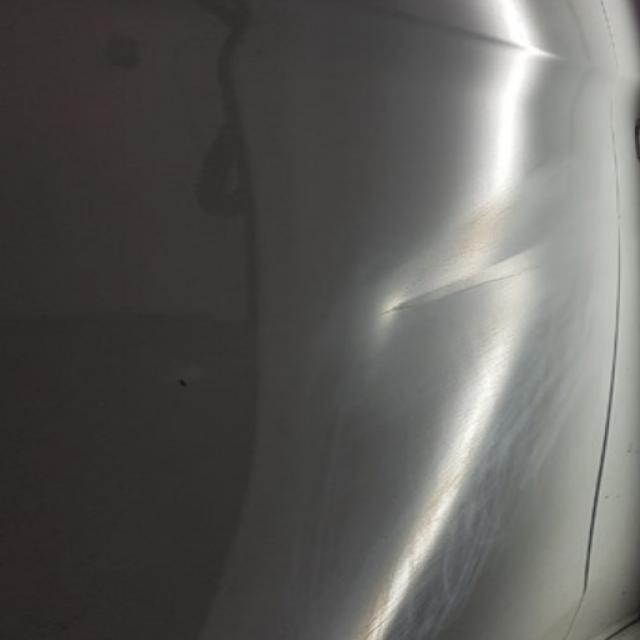dents: (317, 223, 625, 358)
